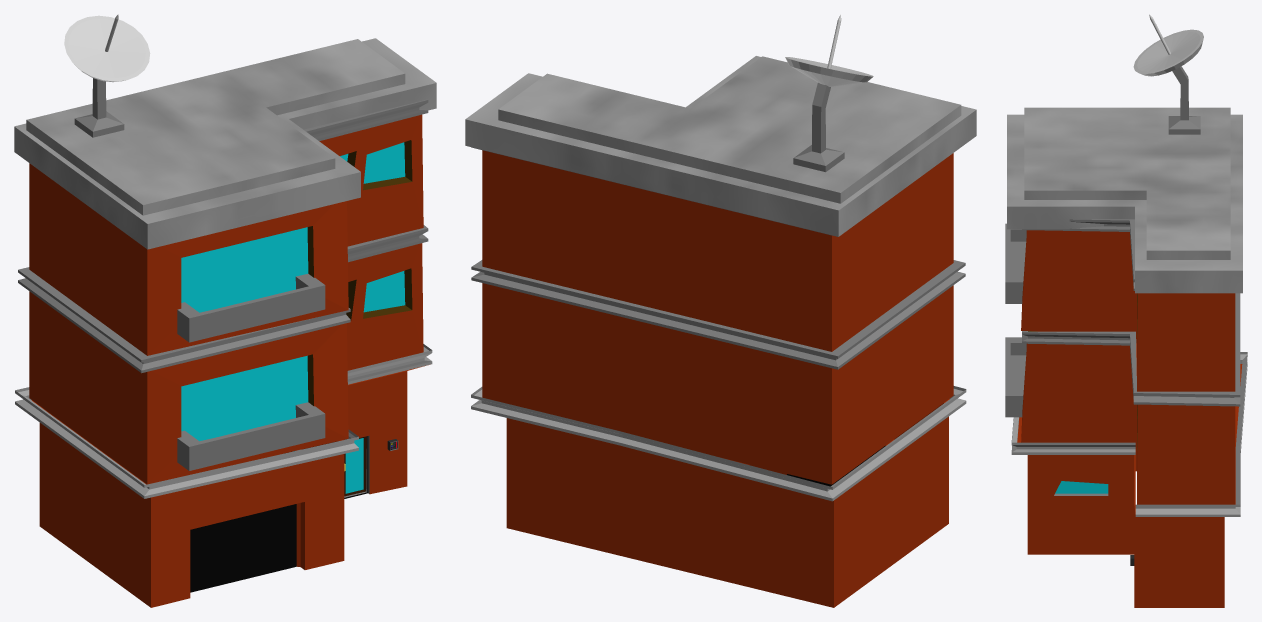
File: PredioFormatoL-VermelhoLOD0.fbx
3 views of the same model, side by side, from view 1: azimuth 30°, elevation 25°; view 2: azimuth 150°, elevation 25°; view 3: azimuth 270°, elevation 25° (orthographic). The views are drawn at different scales.
Parts seen in each view (by area): view 1: Predio4Final; view 2: Predio4Final; view 3: Predio4Final.
Part boxes in pixels (box(x1,y1,x2,y2)): Predio4Final: box(14, 14, 436, 607); Predio4Final: box(465, 14, 976, 607); Predio4Final: box(1005, 14, 1247, 607).
Size of the model in its own units: 1080 by 1527 by 710.
